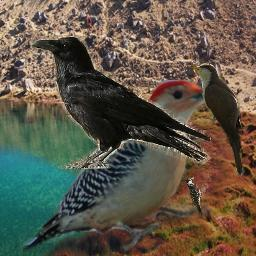Crow: (31, 36, 211, 169)
Cuckoo: (189, 62, 246, 177)
Woodpecker: (23, 80, 235, 252), (186, 177, 206, 216)
